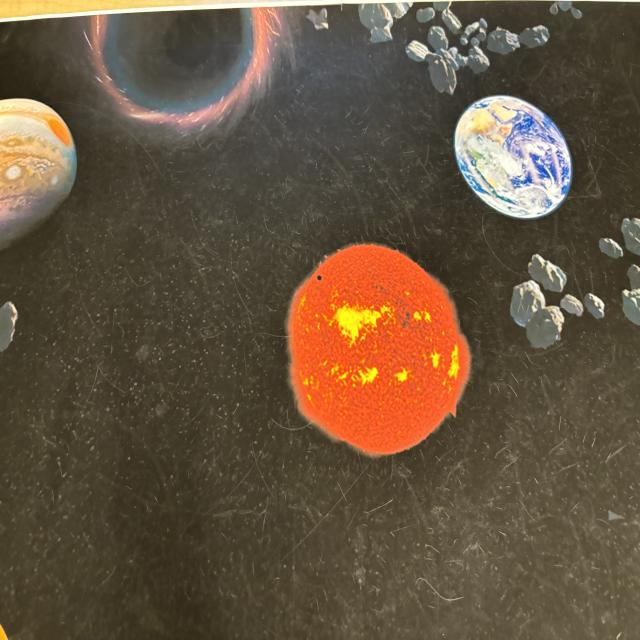Asteroids: (324, 2, 579, 91), (512, 214, 640, 353)
Black Hole: (90, 12, 287, 128)
Earth: (453, 96, 584, 220)
Jupiter: (0, 94, 75, 257)
Sun: (282, 232, 478, 457)
